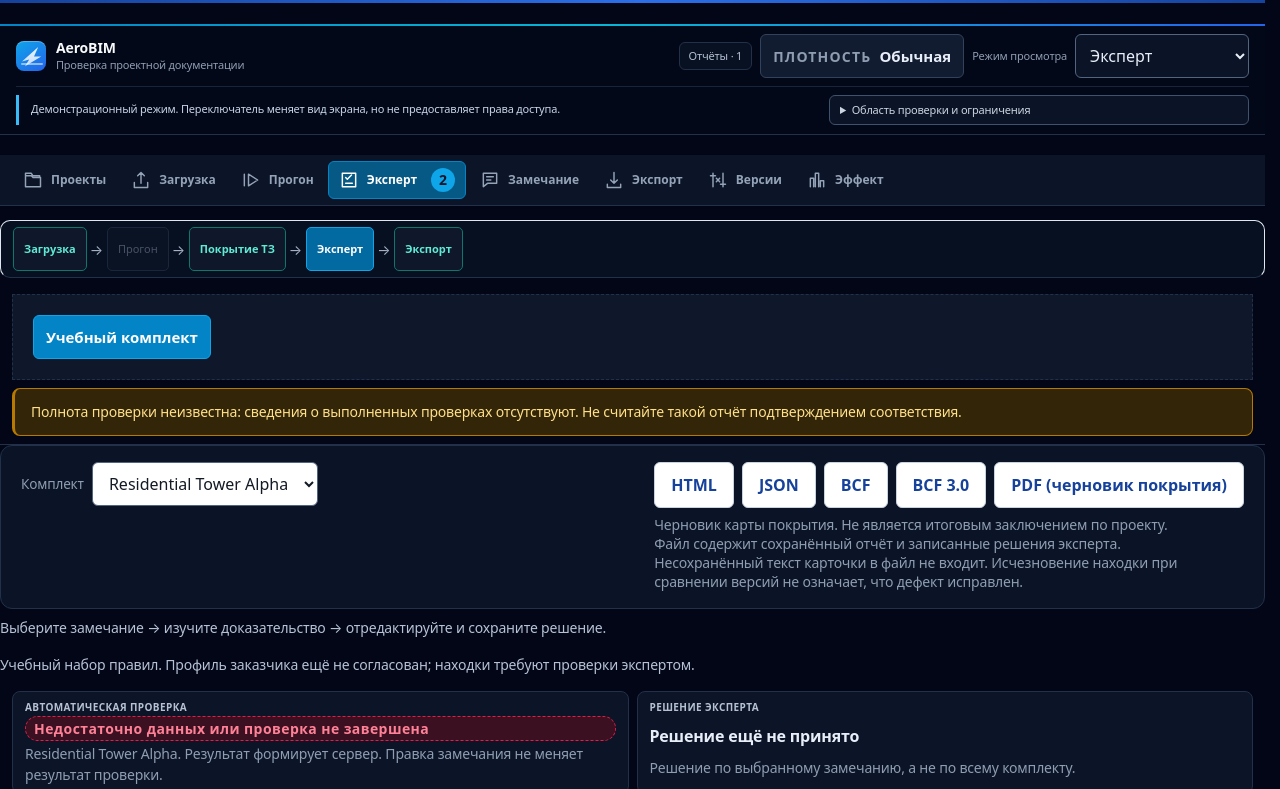
App › searches the loaded report set by report and request id
The image size is (1280, 789).
Click the button "Проекты" at (65, 180), box x1=12 y1=163 x2=117 y2=197
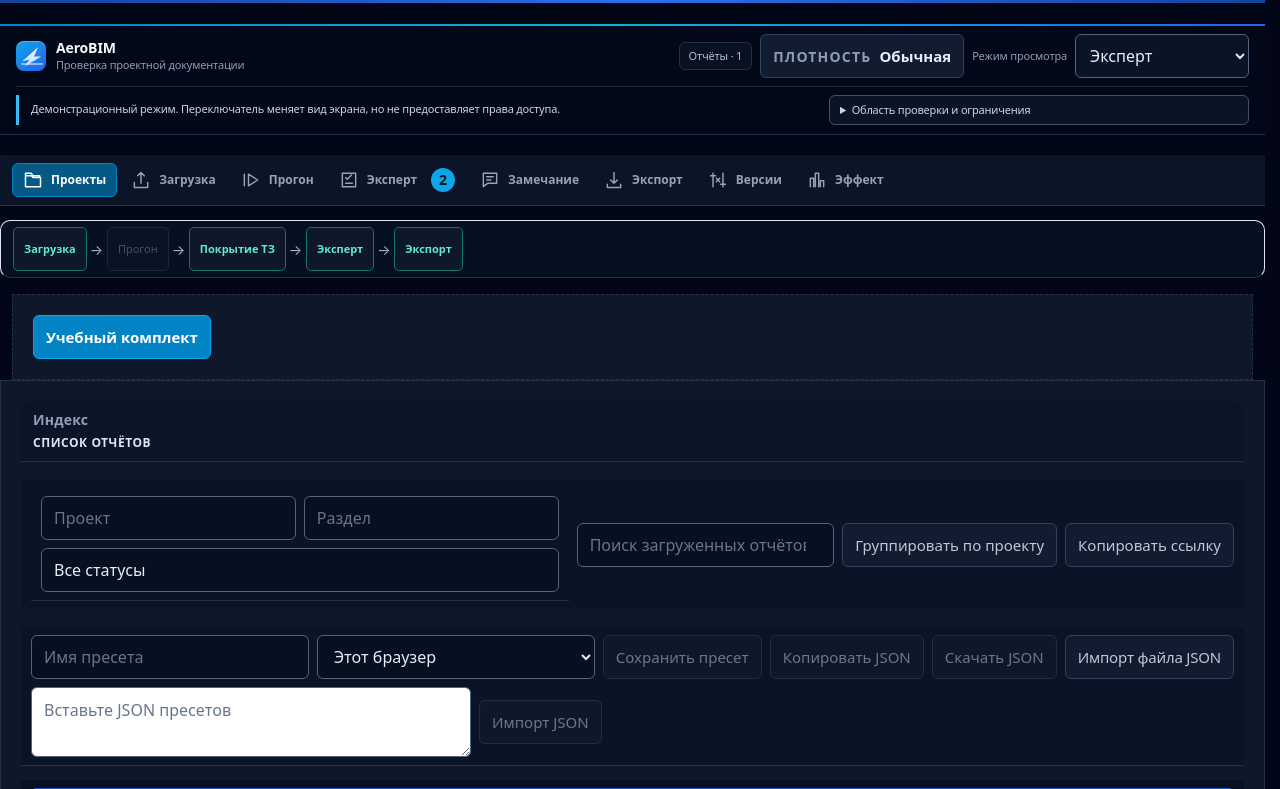
Type "req-001" into the search field with placeholder "Поиск загруженных отчётов" at (706, 545), box x1=577 y1=523 x2=834 y2=567
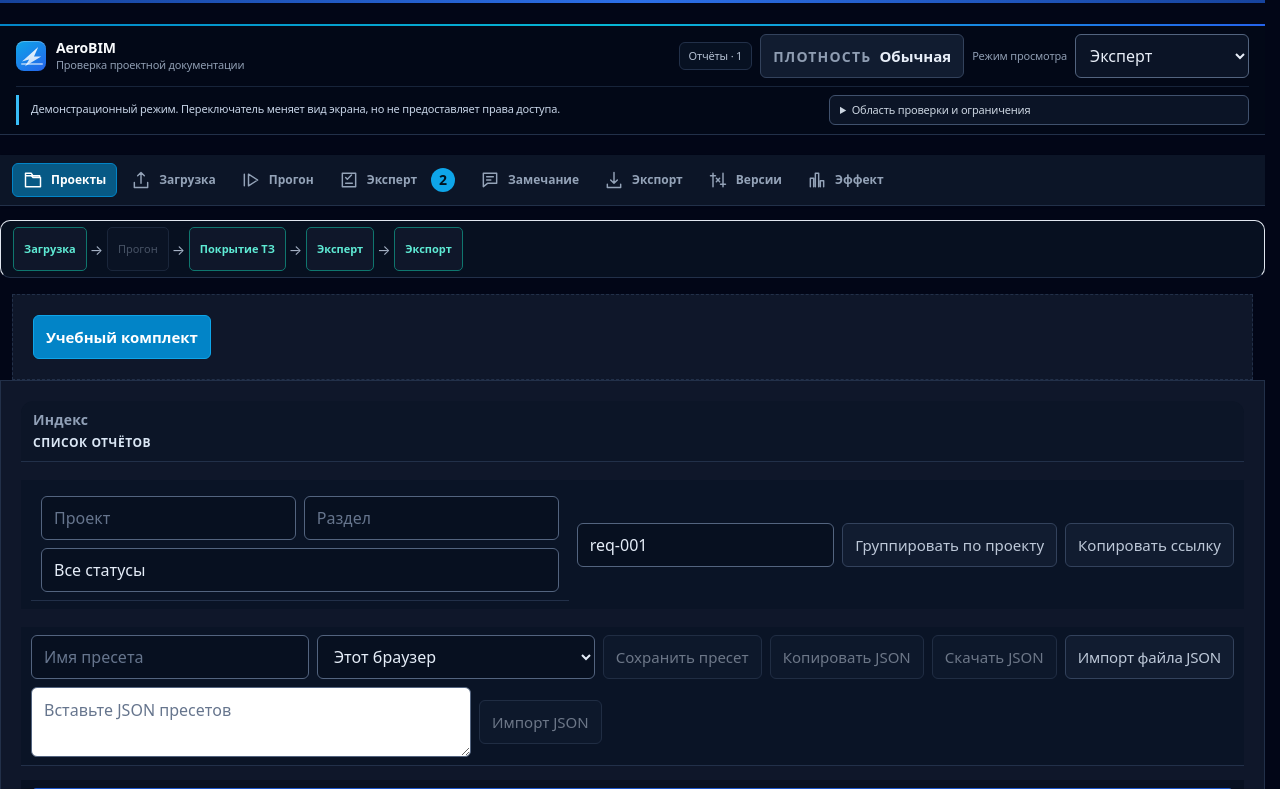
Replace the text in the search field with placeholder "Поиск загруженных отчётов" with "req-999" at (706, 545), box x1=577 y1=523 x2=834 y2=567
(page scrolled)
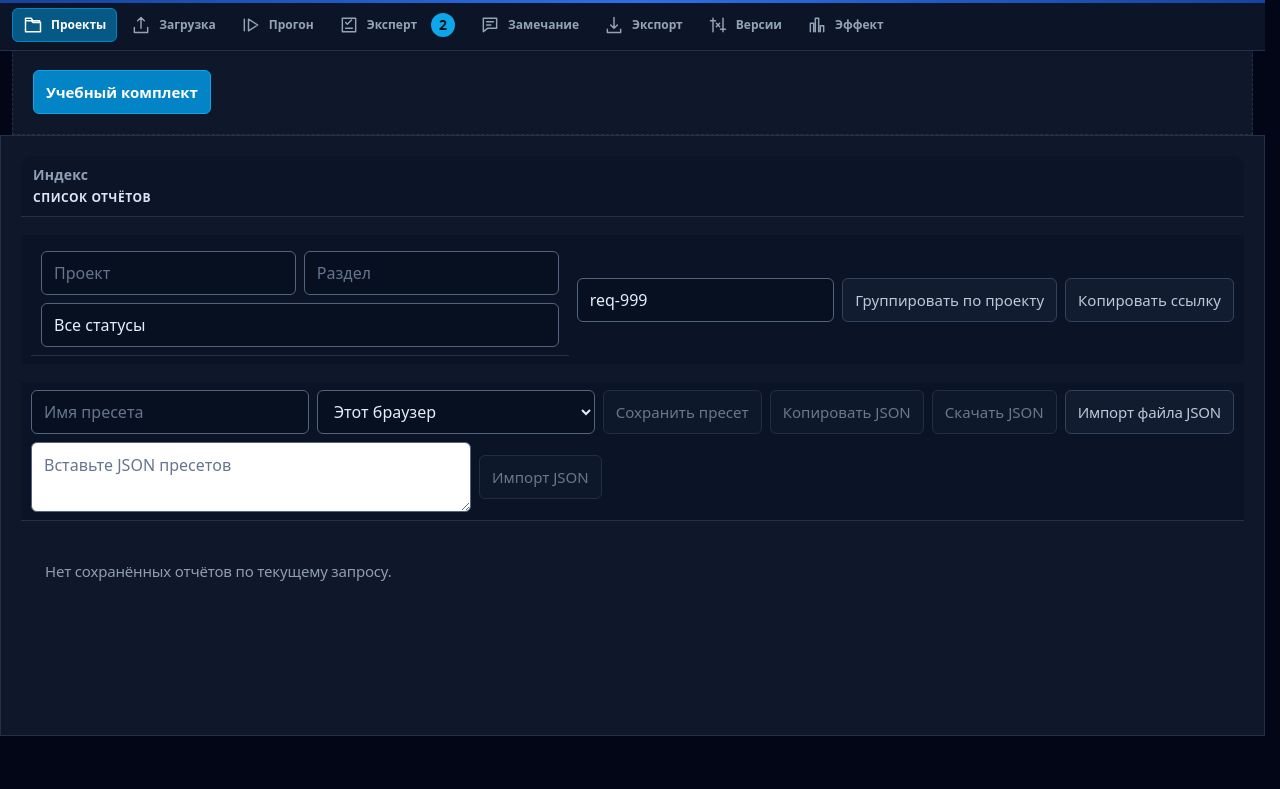
Check: the text "Нет сохранённых отчётов по текущему запросу." is shown, box x1=45 y1=561 x2=392 y2=581
